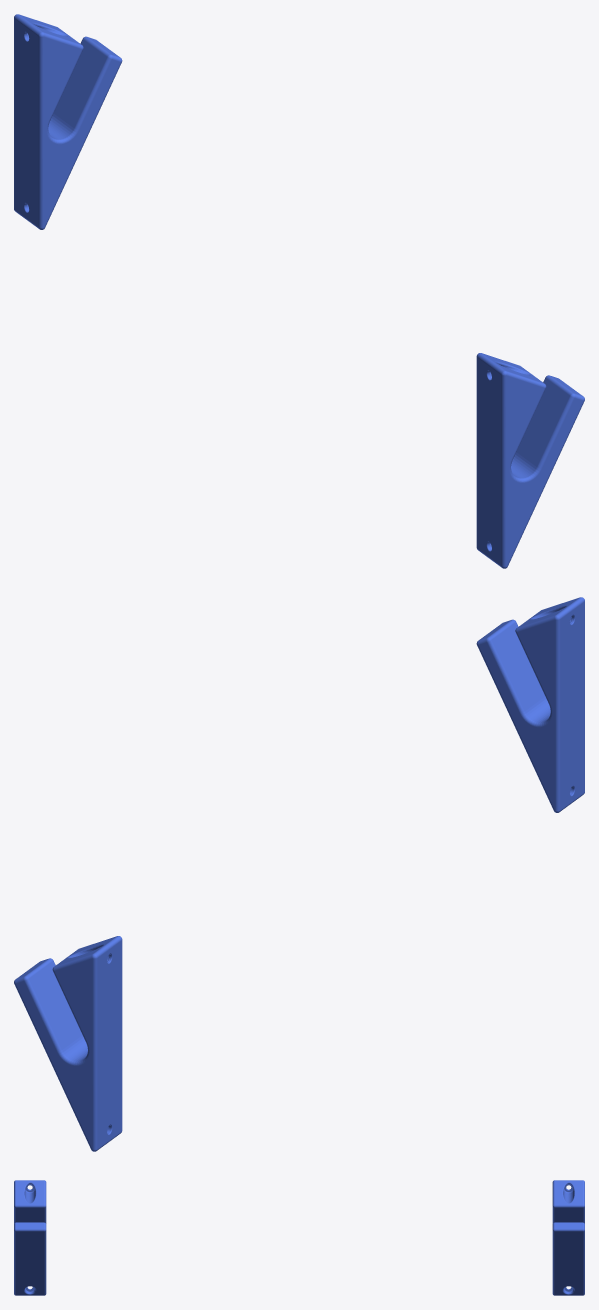
Rendered from skatehook.glb.
3 views of the same model, one above another, from view 1: azimuth 30°, elevation 25°; view 2: azimuth 150°, elevation 25°; view 3: azimuth 270°, elevation 25° (orthographic). The views are drawn at different scales.
Visible parts, largest first — view 1: Skatehook, Skatehook.001; view 2: Skatehook.001, Skatehook; view 3: Skatehook, Skatehook.001.
Part boxes in pixels (<box>): Skatehook: <box>476,353,584,568</box>; Skatehook.001: <box>14,14,122,229</box>; Skatehook.001: <box>14,936,122,1151</box>; Skatehook: <box>476,597,584,812</box>; Skatehook: <box>14,1180,46,1295</box>; Skatehook.001: <box>552,1180,584,1295</box>.
Bounding box in the file's own units: 5.19 × 11.78 × 53.
